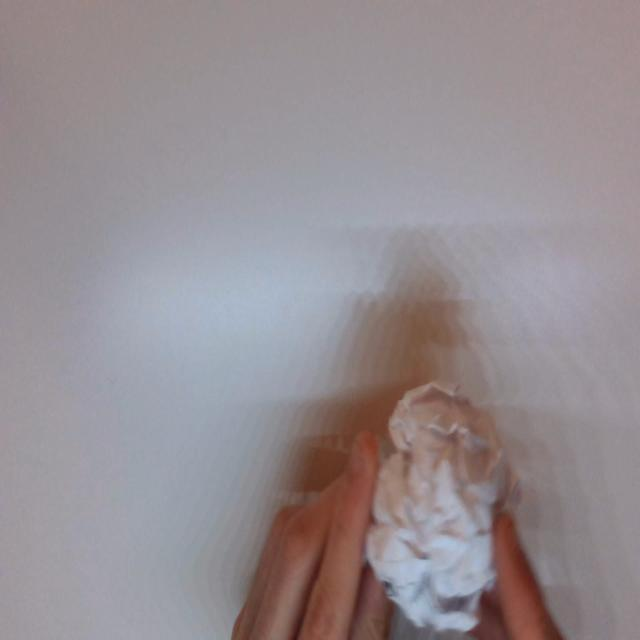Paper: (369, 377, 507, 635)
